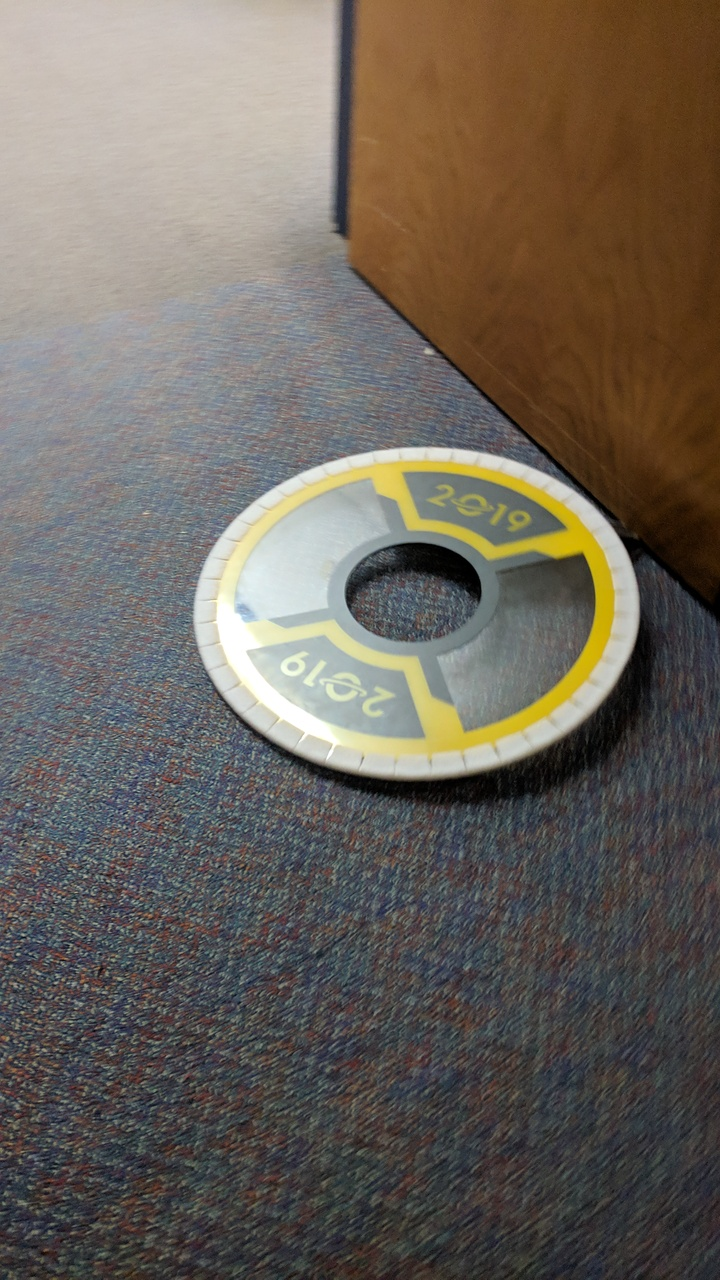hatch_panel: (186, 439, 663, 789)
